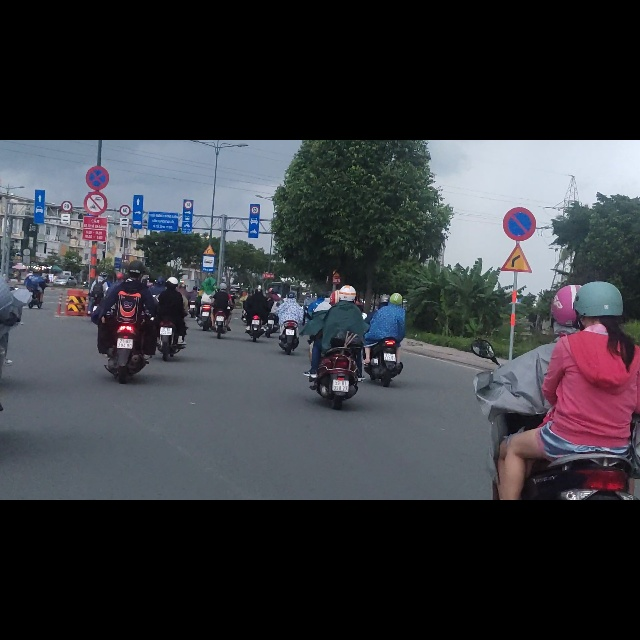bien_nguy_hiem: (502, 117, 536, 178), (498, 185, 532, 238), (86, 43, 109, 88), (84, 89, 107, 133), (201, 206, 215, 236), (203, 184, 215, 206), (120, 114, 131, 136), (61, 107, 72, 128), (119, 137, 129, 155), (184, 107, 193, 123), (251, 117, 259, 132)
